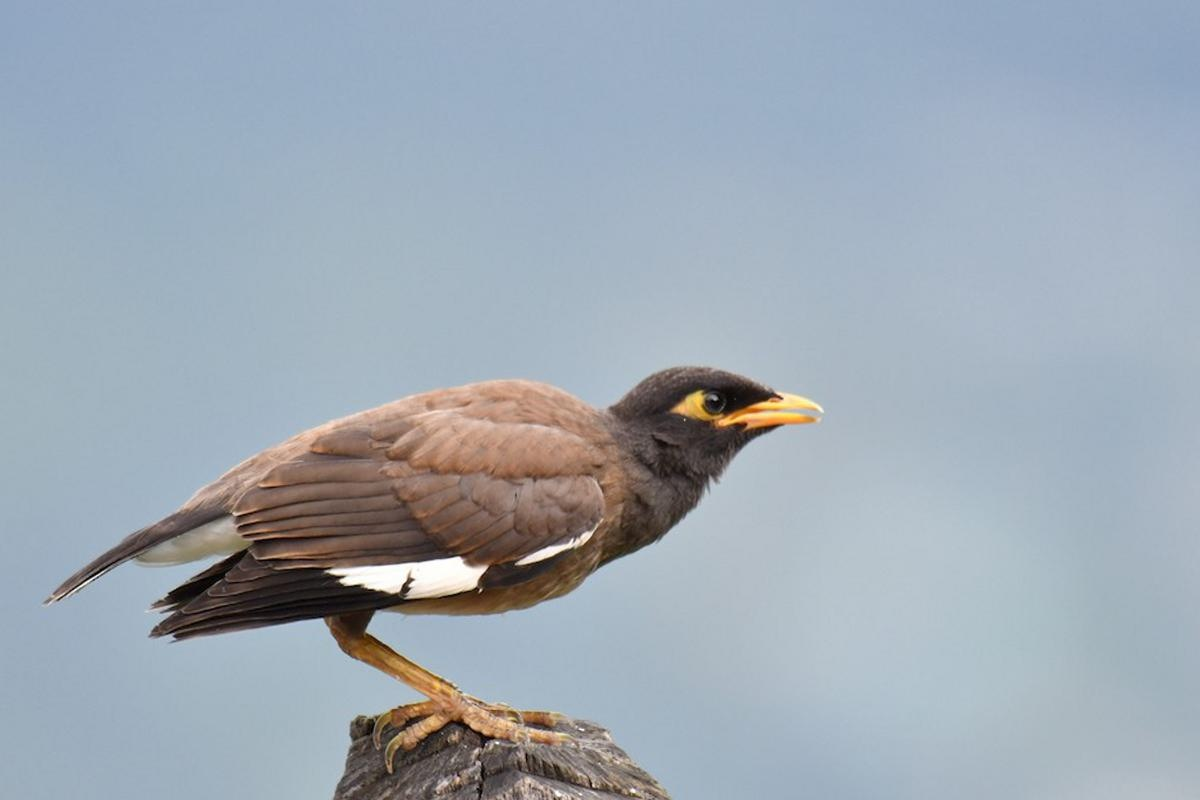myna: (181, 311, 855, 706)
